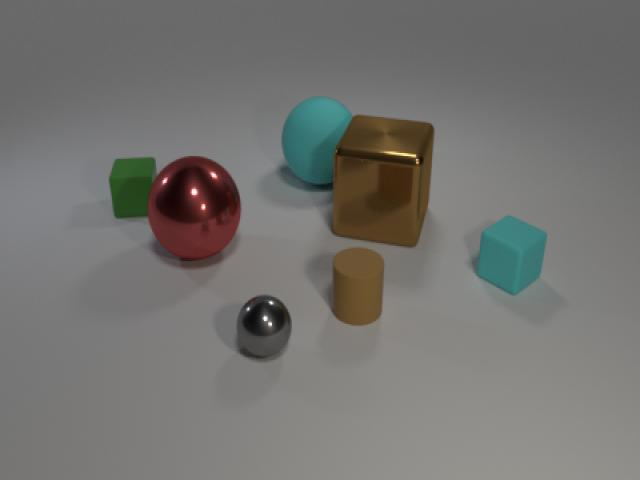cylinder: (322, 242, 390, 330)
round ball: (144, 148, 245, 268), (276, 91, 359, 193), (232, 288, 296, 361)
